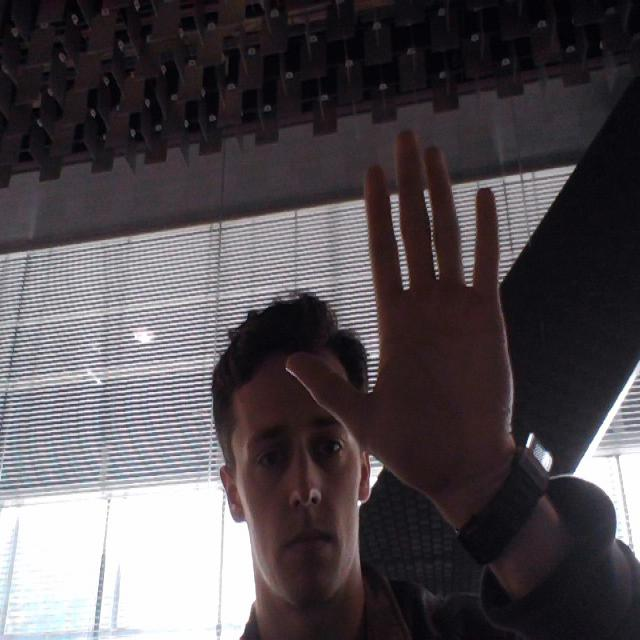backward: (286, 112, 548, 544)
